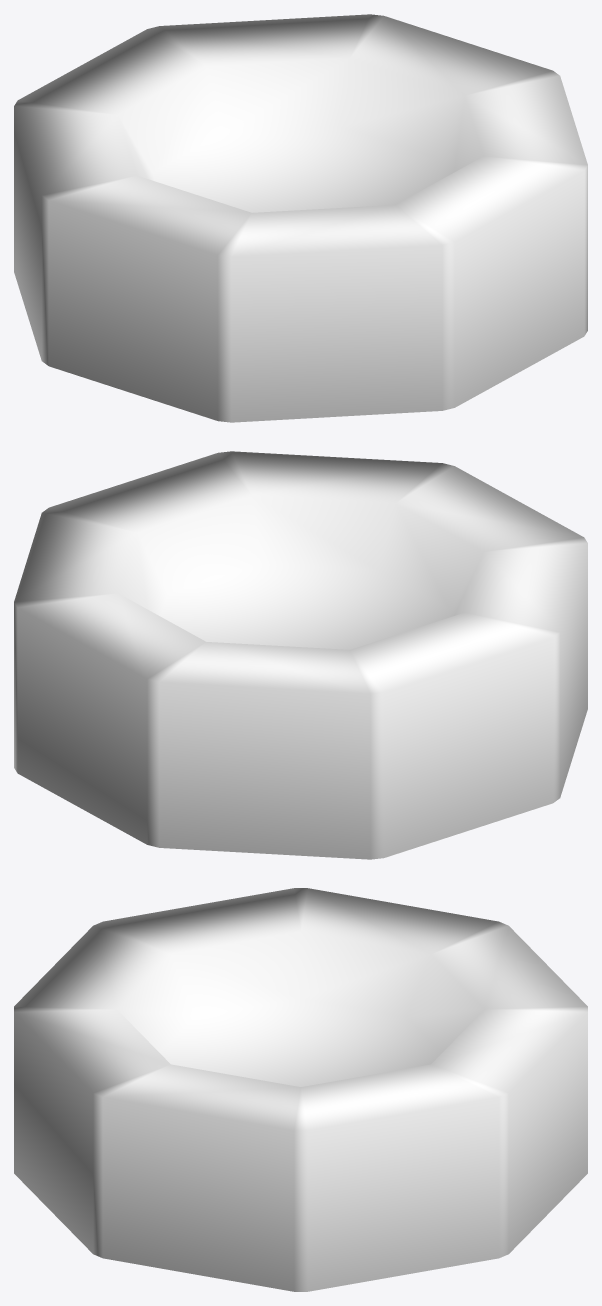
Rendered from SM_RefinedMetal_5.fbx.
3 views of the same model, one above another, from view 1: azimuth 30°, elevation 25°; view 2: azimuth 150°, elevation 25°; view 3: azimuth 270°, elevation 25° (orthographic). The views are drawn at different scales.
Visible parts, largest first — view 1: RefinedMetal_5; view 2: RefinedMetal_5; view 3: RefinedMetal_5.
Part boxes in pixels (x1,y1,x2,y2): RefinedMetal_5: (14, 14, 587, 422); RefinedMetal_5: (14, 451, 587, 859); RefinedMetal_5: (14, 888, 587, 1291).
Bounding box in the file's own units: 0.3096 × 0.0959 × 0.3096.
